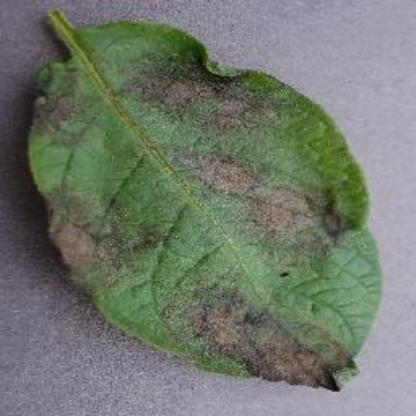Late-Blight: (26, 4, 393, 416)
